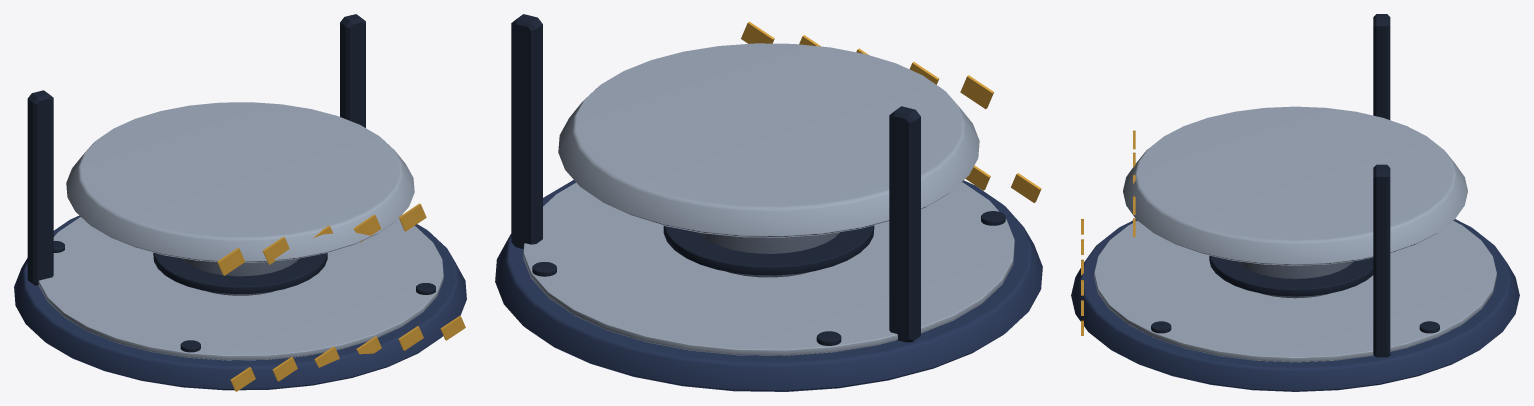
Rendered from trap_launcher_rearming.glb.
3 renders of one model, left to right at view 1: azimuth 30°, elevation 25°; view 2: azimuth 150°, elevation 25°; view 3: azimuth 270°, elevation 25°, orthographic. The views are drawn at different scales.
Parts seen in each view (by area): view 1: trap_launcher_pad, trap_launcher_plate_rim, trap_launcher_plate, trap_launcher_guide_l, trap_launcher_ring, trap_launcher_guide_r, trap_launcher_hazard, trap_launcher_pad_hazard, trap_launcher_cylinder; view 2: trap_launcher_pad, trap_launcher_plate_rim, trap_launcher_plate, trap_launcher_guide_l, trap_launcher_guide_r, trap_launcher_ring, trap_launcher_cylinder, trap_launcher_pad_hazard, trap_launcher_hazard; view 3: trap_launcher_pad, trap_launcher_plate_rim, trap_launcher_plate, trap_launcher_guide_r, trap_launcher_ring, trap_launcher_guide_l, trap_launcher_cylinder.
Boxes of the visible parts, <box> form: trap_launcher_pad: <box>66,102,414,262</box>; trap_launcher_plate_rim: <box>38,217,443,360</box>; trap_launcher_plate: <box>14,215,466,390</box>; trap_launcher_guide_l: <box>27,90,53,285</box>; trap_launcher_ring: <box>153,252,327,293</box>; trap_launcher_guide_r: <box>340,14,365,127</box>; trap_launcher_hazard: <box>230,316,465,391</box>; trap_launcher_pad_hazard: <box>217,203,426,275</box>; trap_launcher_cylinder: <box>181,258,298,295</box>; trap_launcher_pad: <box>558,43,979,237</box>; trap_launcher_plate_rim: <box>523,182,1014,355</box>; trap_launcher_plate: <box>495,180,1042,391</box>; trap_launcher_guide_l: <box>889,106,920,342</box>; trap_launcher_guide_r: <box>511,14,542,248</box>; trap_launcher_ring: <box>663,225,874,275</box>; trap_launcher_cylinder: <box>698,232,840,277</box>; trap_launcher_pad_hazard: <box>741,21,993,109</box>; trap_launcher_hazard: <box>965,165,1041,202</box>; trap_launcher_pad: <box>1123,106,1467,265</box>; trap_launcher_plate_rim: <box>1094,220,1496,362</box>; trap_launcher_plate: <box>1071,219,1519,391</box>; trap_launcher_guide_r: <box>1373,164,1390,357</box>; trap_launcher_ring: <box>1209,255,1373,296</box>; trap_launcher_guide_l: <box>1373,14,1390,119</box>; trap_launcher_cylinder: <box>1237,261,1353,298</box>.
Size of the model in its own units: 1.56 by 0.7908 by 1.56.
